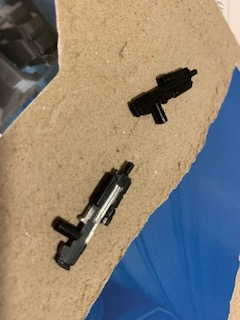rifle: (47, 160, 136, 270), (124, 67, 201, 128)
